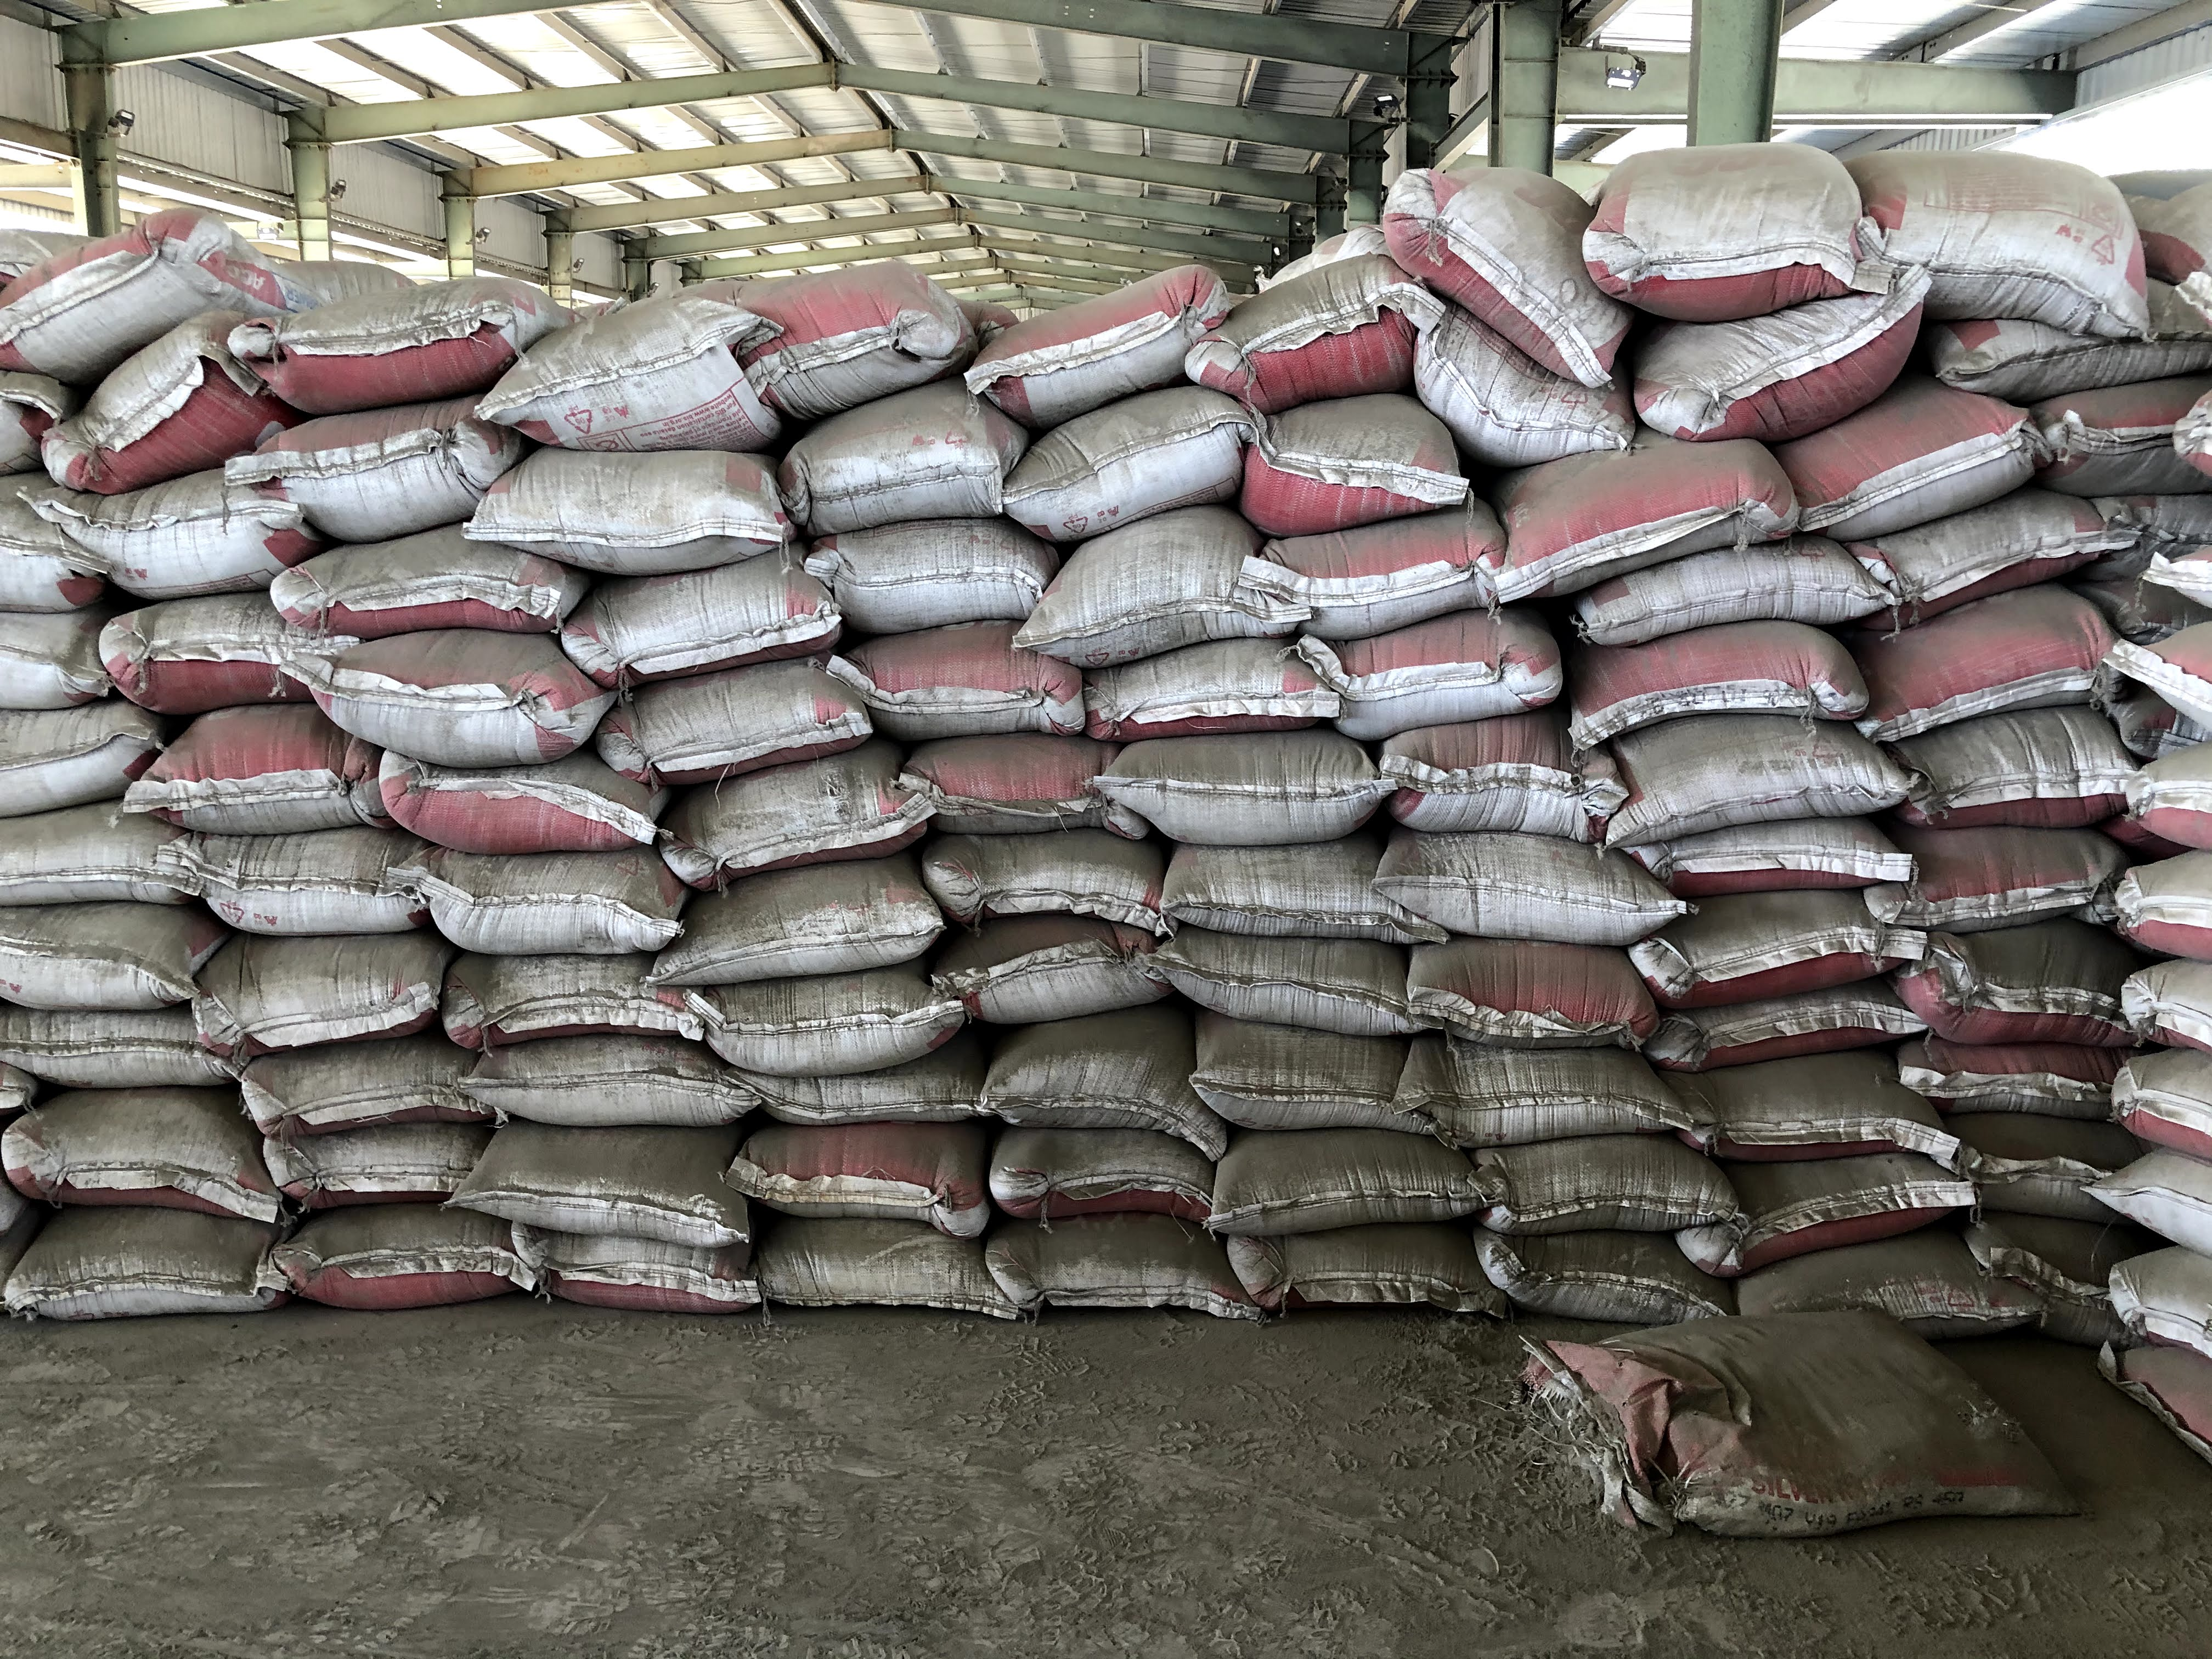cement bag: (502, 301, 803, 474), (1411, 162, 1623, 389), (111, 674, 364, 817), (1606, 723, 1862, 857), (307, 627, 597, 742), (662, 762, 904, 896), (456, 1018, 728, 1129), (54, 439, 263, 580), (1000, 296, 1238, 416), (1385, 918, 1634, 1032), (1787, 380, 1949, 551), (1052, 542, 1313, 647), (399, 833, 657, 938), (1329, 718, 1609, 814), (289, 1185, 528, 1297), (1184, 913, 1381, 1047), (502, 474, 799, 561), (662, 896, 921, 993), (282, 498, 495, 617), (517, 1204, 752, 1310), (1559, 547, 1810, 647), (1104, 751, 1372, 843), (1204, 1140, 1467, 1234), (860, 716, 1101, 819), (1458, 1127, 1714, 1220), (1385, 814, 1609, 918), (1052, 416, 1238, 542), (1683, 1066, 1940, 1157), (624, 561, 799, 690), (1521, 469, 1810, 547), (254, 303, 493, 397), (1104, 647, 1313, 751), (1656, 307, 1949, 380), (1892, 603, 2114, 697), (860, 599, 1038, 716), (54, 329, 240, 439), (803, 356, 951, 493), (1677, 918, 1925, 1000), (624, 690, 904, 762), (1571, 655, 1862, 723), (246, 934, 444, 1033), (991, 995, 1162, 1110), (1735, 1171, 1991, 1248), (1952, 904, 2106, 1032), (1606, 857, 1925, 918), (991, 1110, 1205, 1201), (482, 1129, 728, 1206), (745, 1127, 984, 1206), (1472, 1220, 1714, 1295), (399, 742, 597, 833), (1329, 622, 1515, 718), (1204, 291, 1430, 369), (998, 1201, 1205, 1286), (279, 416, 495, 498), (216, 824, 411, 915), (827, 516, 1038, 599), (1677, 1000, 1940, 1066), (1979, 699, 2160, 795), (1458, 1032, 1634, 1127), (1787, 551, 2127, 599), (1204, 1047, 1381, 1140), (287, 1119, 451, 1218), (456, 938, 657, 1018), (1952, 1032, 2101, 1140), (7, 263, 240, 329), (1266, 420, 1447, 504), (1327, 542, 1515, 622), (1939, 817, 2106, 904), (111, 580, 263, 674), (779, 1220, 967, 1295), (1815, 1248, 1991, 1324), (279, 1042, 451, 1119), (718, 1058, 979, 1108), (1184, 843, 1372, 913), (979, 924, 1162, 995), (759, 293, 951, 356), (1261, 1234, 1467, 1291), (961, 819, 1101, 899), (745, 993, 921, 1042)
